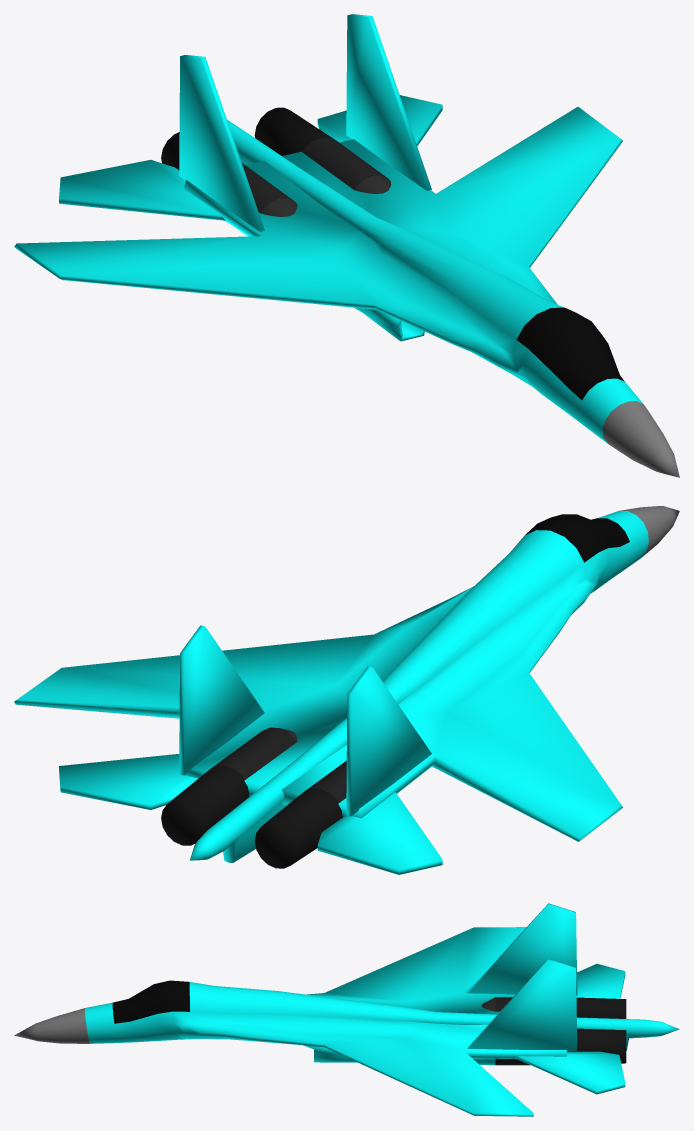
The model's file is sukhoi35_fixed.fbx.
3 renders of one model, top to bottom at view 1: azimuth 30°, elevation 25°; view 2: azimuth 150°, elevation 25°; view 3: azimuth 270°, elevation 25°, orthographic. The views are drawn at different scales.
Visible parts, largest first — view 1: sukhoi35; view 2: sukhoi35; view 3: sukhoi35.
Boxes of the visible parts, x1,y1,x2,y2 form: sukhoi35: [14, 14, 679, 477]; sukhoi35: [14, 506, 679, 874]; sukhoi35: [14, 903, 679, 1116].
Size of the model in its own units: 1102 by 341 by 1651.
